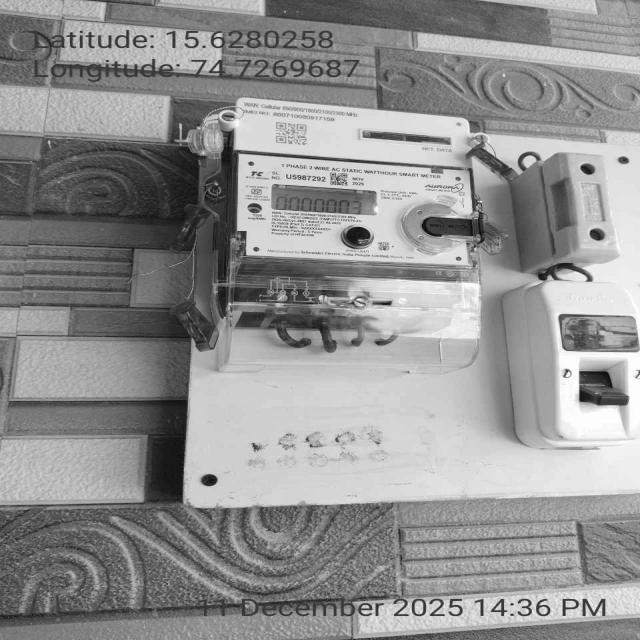meter: (235, 97, 472, 269)
